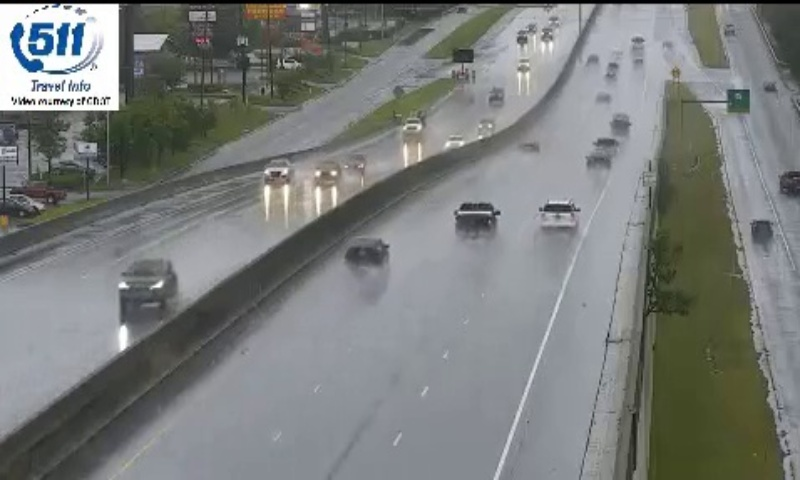car: (454, 201, 497, 233), (346, 238, 388, 264), (541, 201, 579, 229)
